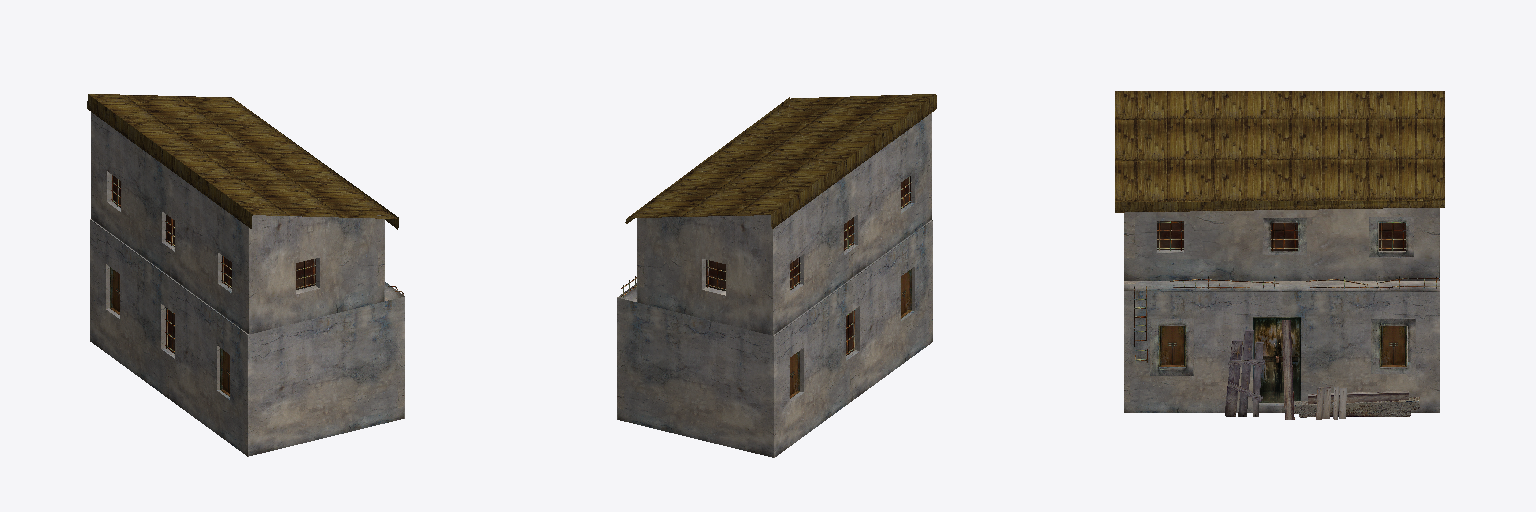
The picture shows the model from 3 angles: view 1: azimuth 30°, elevation 25°; view 2: azimuth 150°, elevation 25°; view 3: azimuth 270°, elevation 25°; orthographic projection.
Bounding box in the file's own units: 132 × 179 × 218.
8 materials, 8 textured.